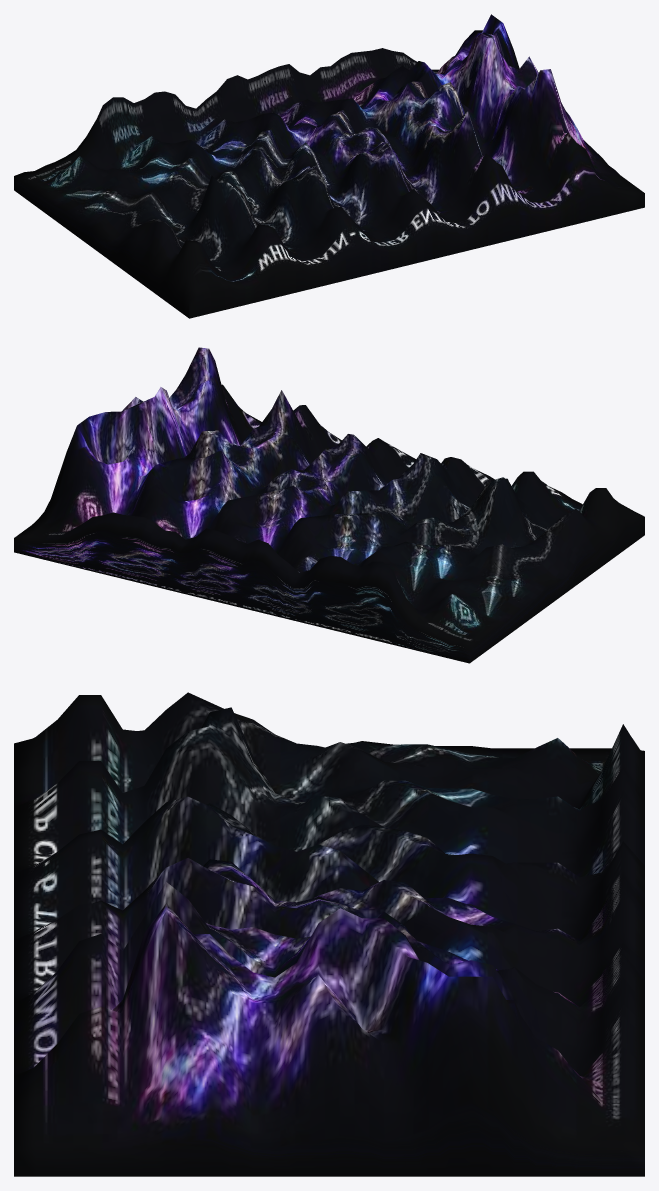
Rendered from ARSENAL_Whip_6Tier.glb.
3 renders of one model, top to bottom at view 1: azimuth 30°, elevation 25°; view 2: azimuth 150°, elevation 25°; view 3: azimuth 270°, elevation 25°, orthographic. The views are drawn at different scales.
Visible parts, largest first — view 1: ARSENAL_Whip_6Tier; view 2: ARSENAL_Whip_6Tier; view 3: ARSENAL_Whip_6Tier.
Boxes of the visible parts, x1=… form: ARSENAL_Whip_6Tier: x1=14, y1=14, x2=644, y2=318; ARSENAL_Whip_6Tier: x1=14, y1=347, x2=644, y2=663; ARSENAL_Whip_6Tier: x1=14, y1=692, x2=644, y2=1176.
Bounding box in the file's own units: 2 × 0.51 × 1.33.
Materials: 1 (1 with a texture image).
